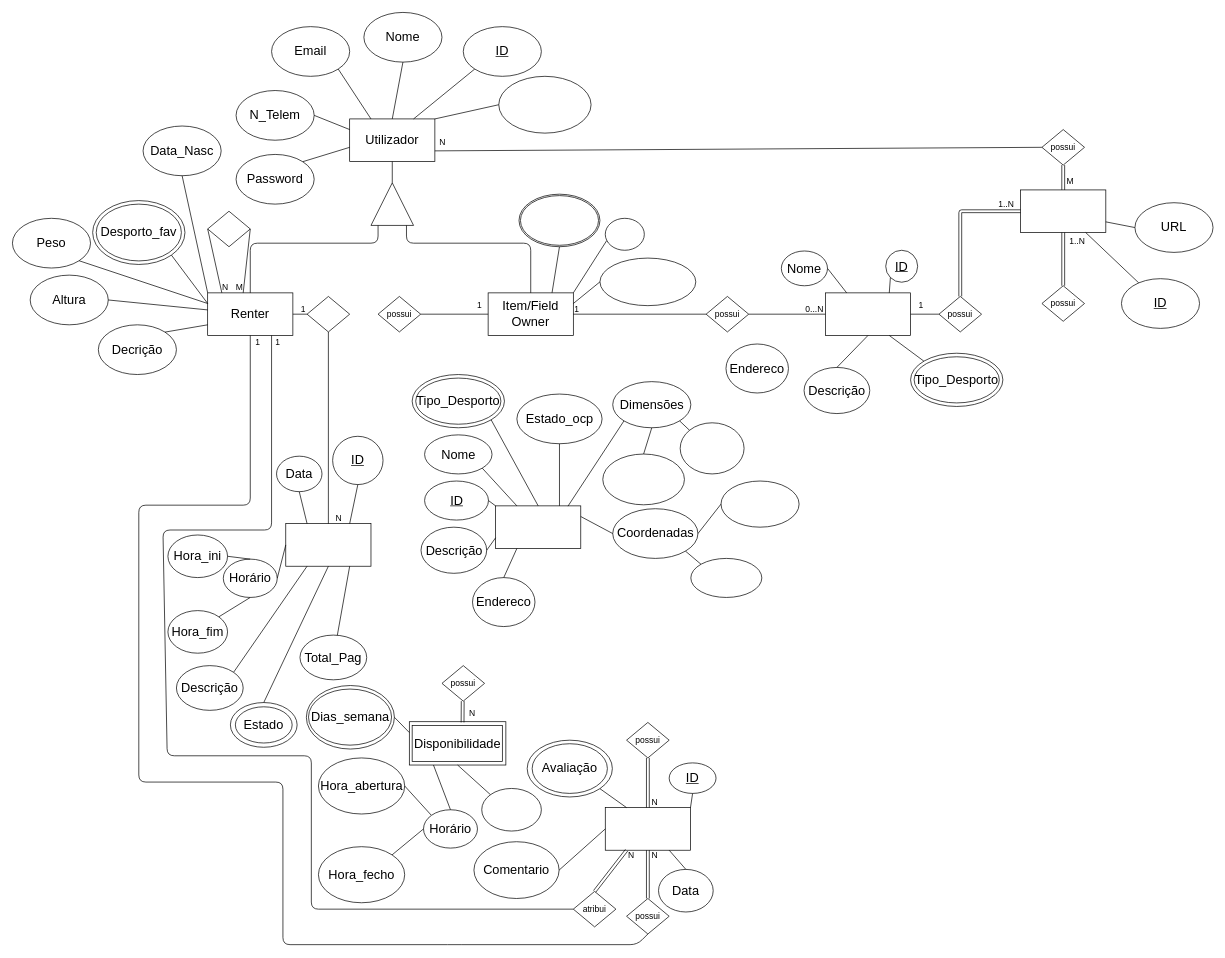
This 1225x958 diagram has some shape labels left out. The shapes that lost their labels are listed below. From the top down, each one's box as (x1, y1, x2, y2) in pixels, then its label:
(498, 76, 591, 133): Nacionalidade
(370, 182, 414, 225): Is A
(520, 195, 599, 245): Metod_Pagar
(1020, 189, 1106, 233): Imagem
(207, 211, 250, 247): amizade
(605, 218, 644, 250): IBAN
(599, 257, 696, 306): Num_campos
(306, 296, 350, 332): faz
(825, 292, 911, 335): Item Desportivo
(679, 422, 744, 474): Largura
(602, 453, 684, 505): Comprimento
(720, 480, 799, 527): Longitude
(285, 523, 371, 566): Reserva
(495, 505, 581, 548): Campo
(690, 558, 762, 597): Latitude
(481, 788, 541, 831): Preço
(605, 807, 690, 850): Rating
